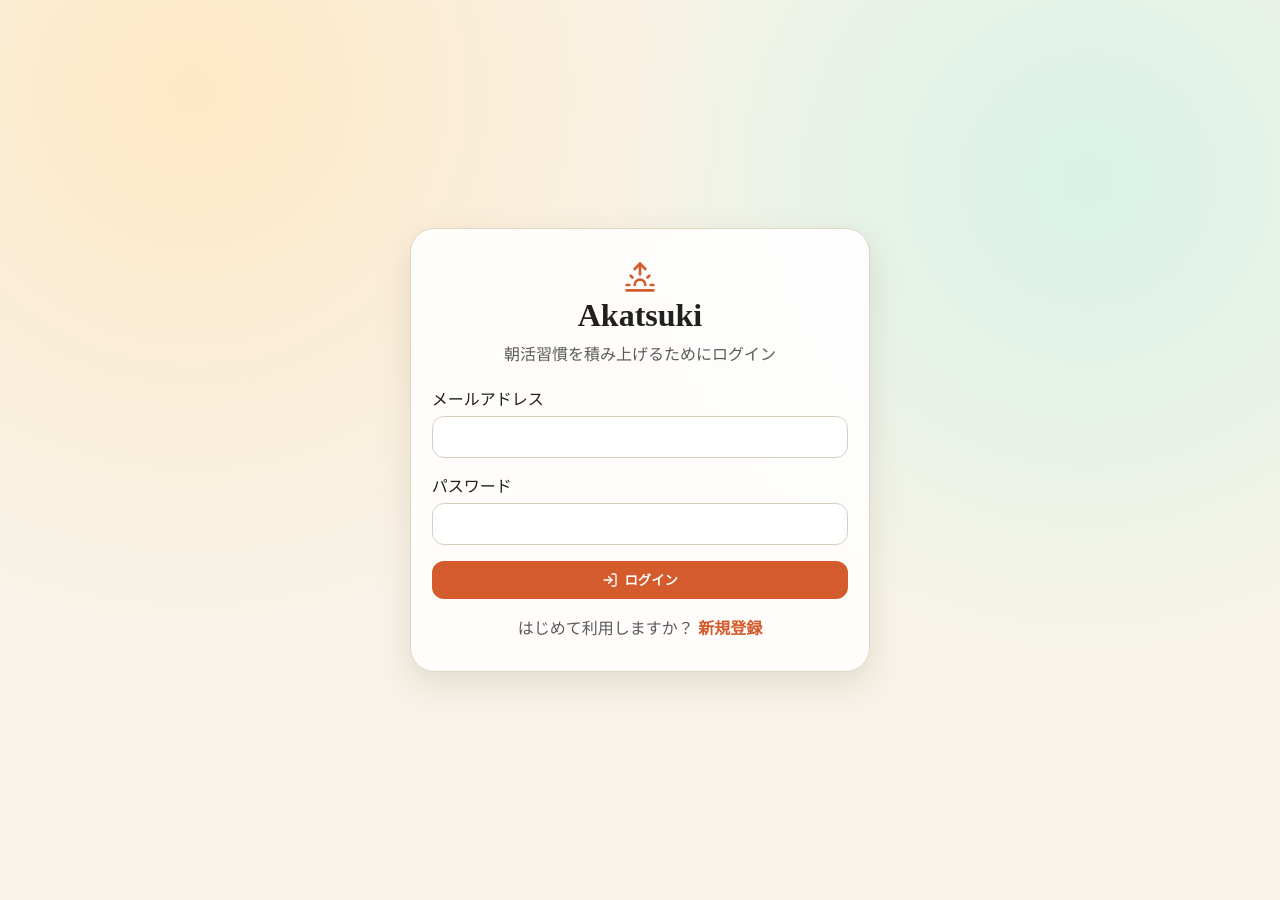
it: LoginPage › shows API error message when login fails
The width and height of the screenshot is (1280, 900).
Type "foo@example.com" into the field labelled "メールアドレス" at (640, 437), box [432, 416, 848, 458]
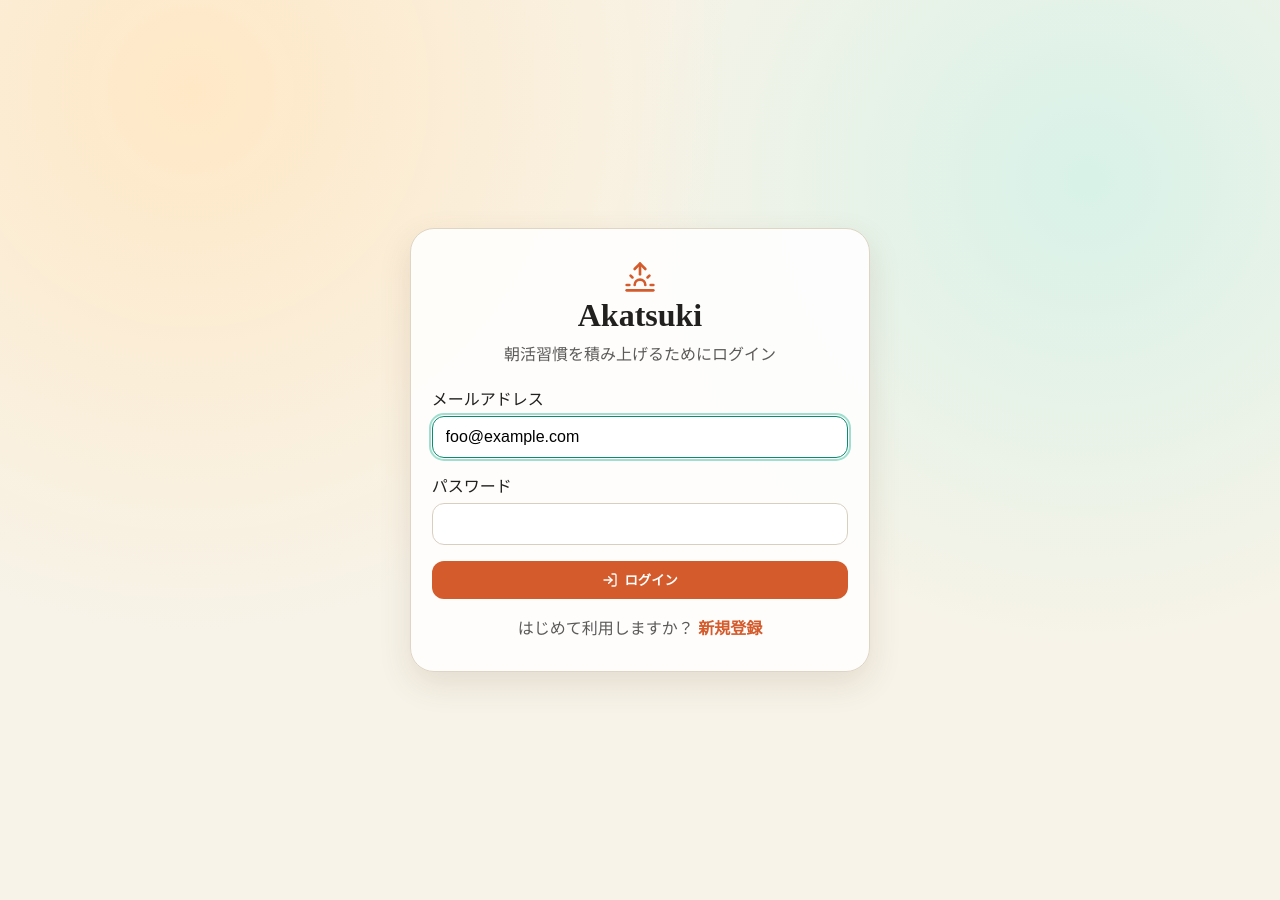
Type "bad-password" into the password field labelled "パスワード" at (640, 524), box [432, 503, 848, 545]
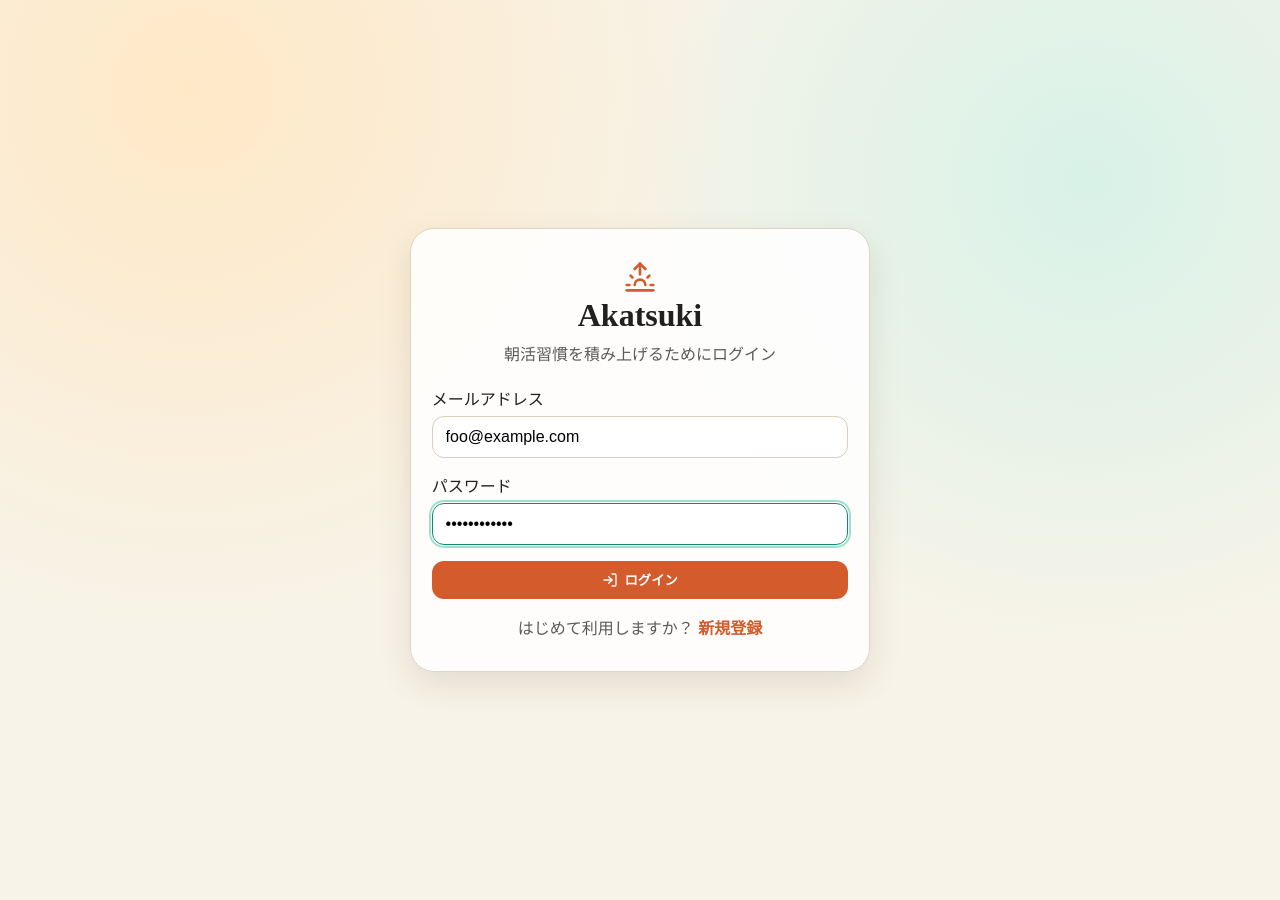
Click the button "ログイン" at (640, 580), box [432, 560, 848, 599]
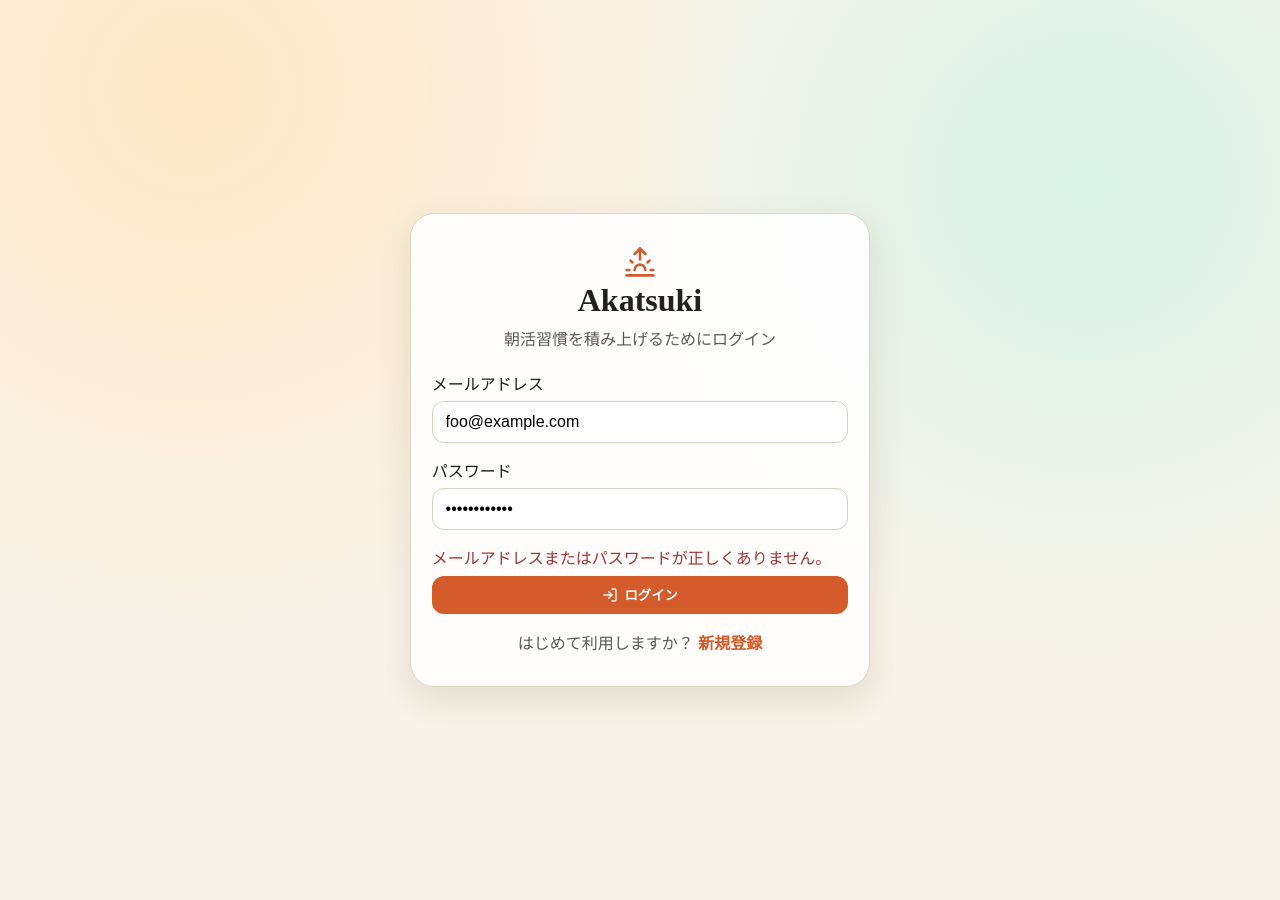
Expected: the text "メールアドレスまたはパスワードが正しくありません。" is shown, [432, 545, 848, 569]
